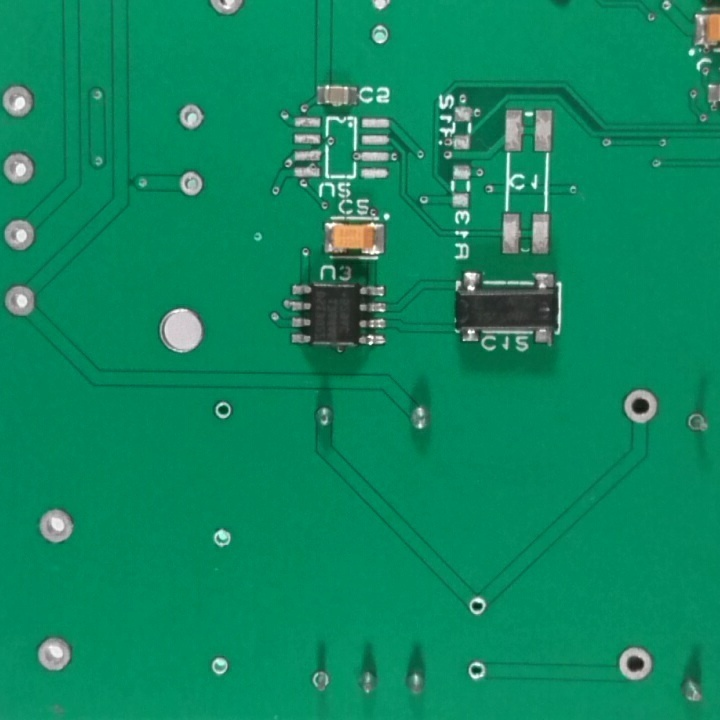F: (33, 635, 76, 675), (33, 507, 76, 546), (615, 643, 655, 684), (1, 149, 38, 193), (622, 385, 661, 425), (2, 79, 38, 120), (1, 215, 39, 253), (1, 284, 39, 320), (177, 99, 207, 130), (176, 169, 206, 199), (306, 667, 333, 698), (205, 1, 248, 20), (206, 525, 233, 552), (686, 412, 712, 440), (207, 654, 233, 679), (210, 397, 237, 421), (464, 658, 487, 686), (463, 595, 487, 618), (367, 25, 393, 46), (367, 1, 395, 15)
